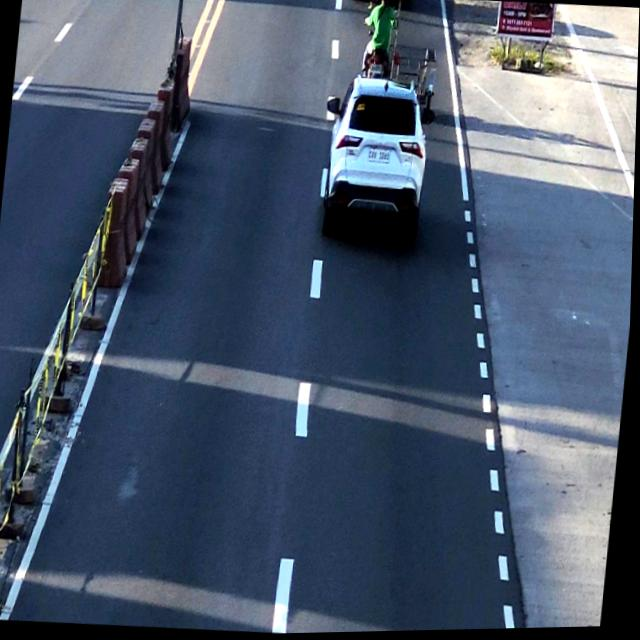Car: (320, 78, 436, 238)
License-Plate: (366, 148, 395, 168)
Tricycle: (355, 0, 450, 94)
